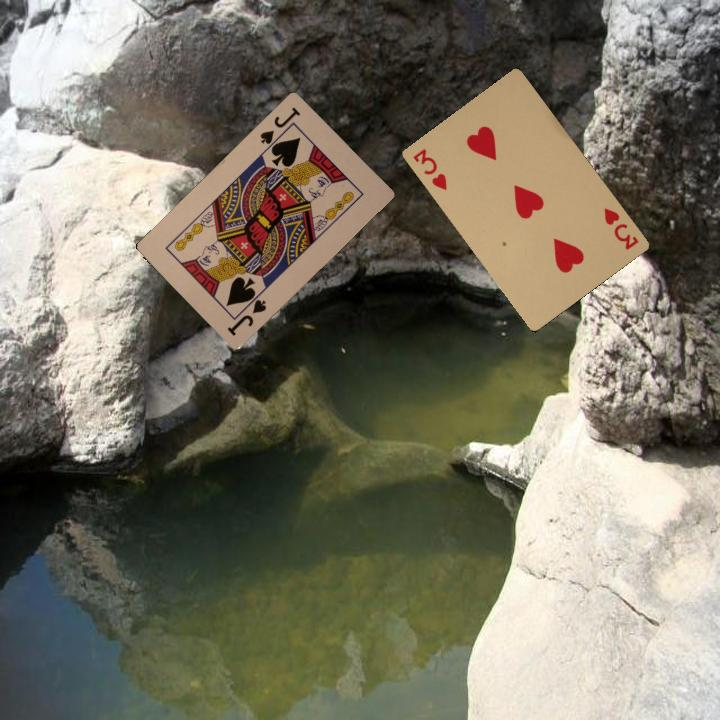3h: (600, 204, 641, 253), (409, 145, 450, 193)
Js: (223, 289, 269, 340), (256, 103, 303, 151)
